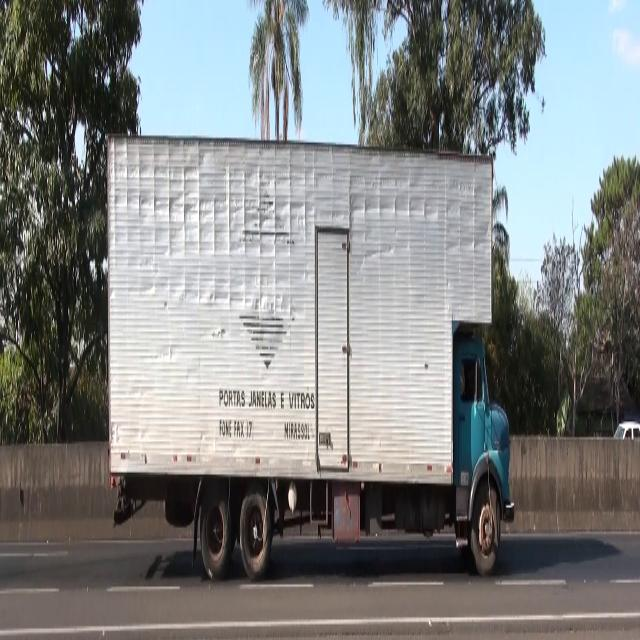-axle: (469, 476, 503, 578), (199, 487, 234, 581), (238, 489, 270, 578)
